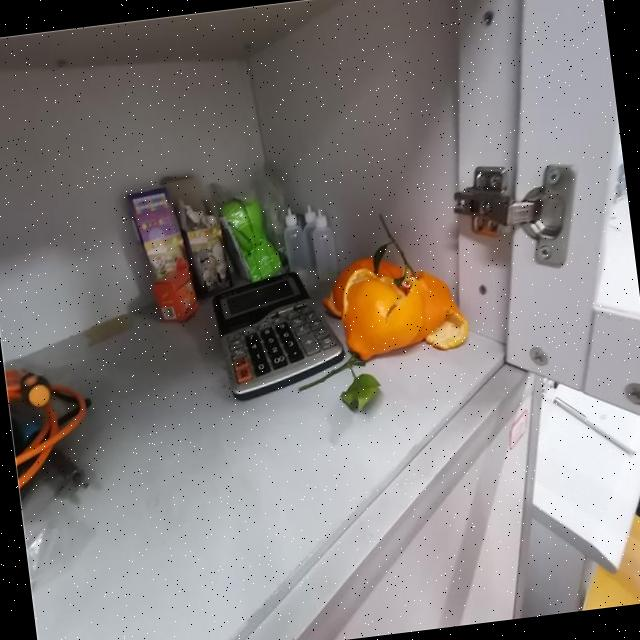orange-peel: (318, 242, 470, 366)
